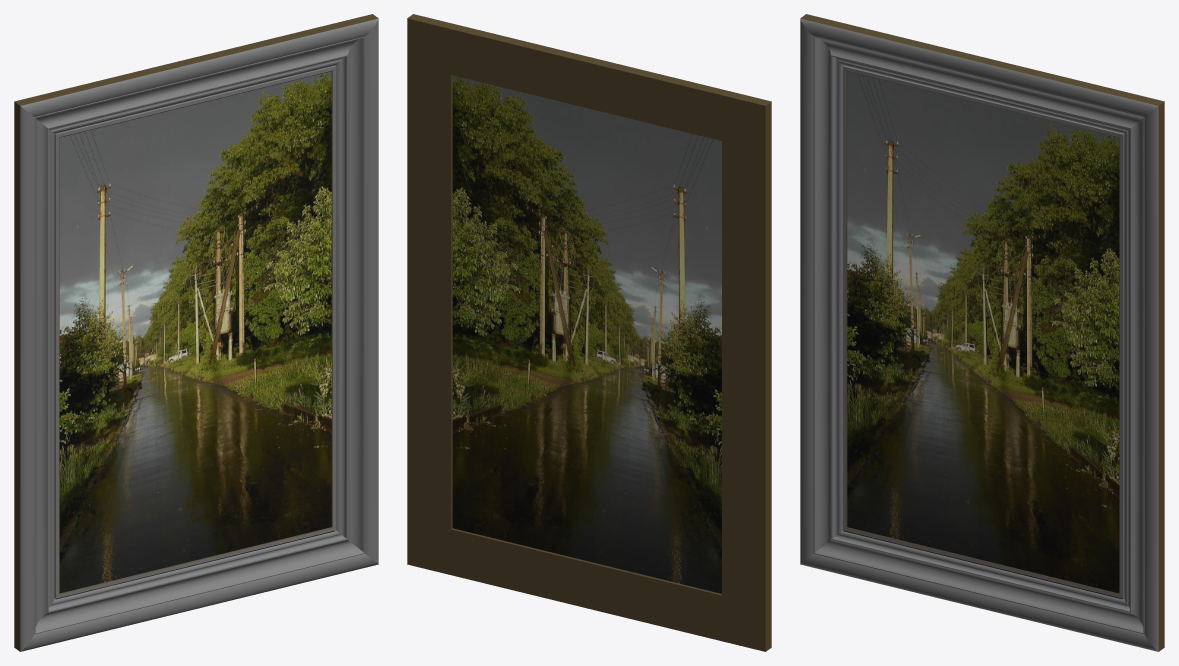
File: guahuatwo.FBX
The picture shows the model from 3 angles, left to right: view 1: azimuth 30°, elevation 25°; view 2: azimuth 150°, elevation 25°; view 3: azimuth 330°, elevation 25°; orthographic projection.
Parts seen in each view (by area): view 1: 3d侠模型免费下载-画框; view 2: 3d侠模型免费下载-画框; view 3: 3d侠模型免费下载-画框.
Boxes of the visible parts, x1,y1,x2,y2 form: 3d侠模型免费下载-画框: (14, 14, 378, 651); 3d侠模型免费下载-画框: (407, 14, 771, 651); 3d侠模型免费下载-画框: (800, 14, 1164, 651).
Size of the model in its own units: 1536 by 2235 by 54.5.
